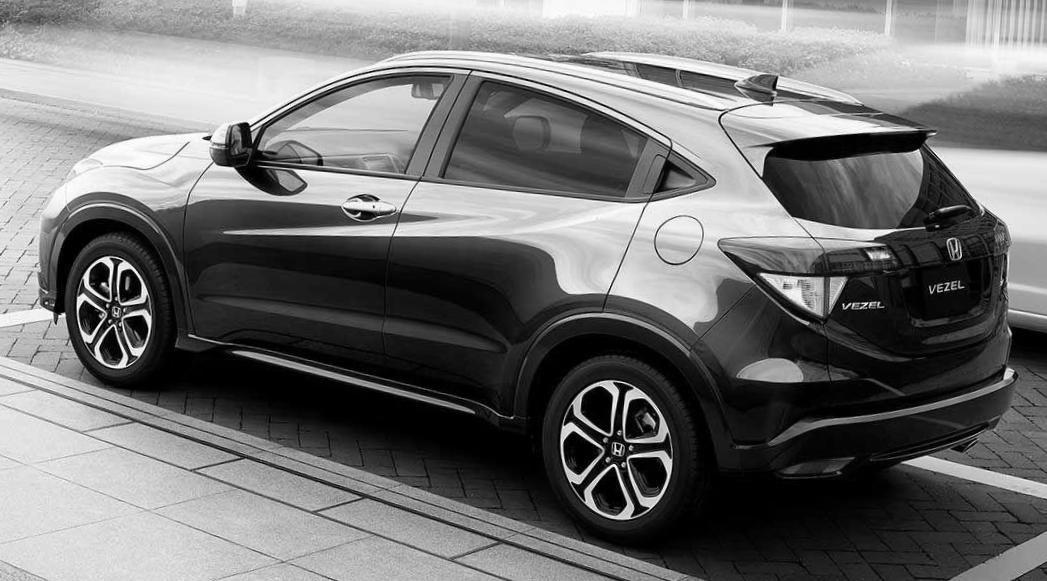Car boot: (756, 119, 1013, 391)
Car hood: (92, 128, 198, 167)
Fender - -F-L-: (64, 136, 216, 347)
Fender - -R-L-: (596, 87, 821, 358)
Front bumper: (31, 179, 75, 318)
Headlight - -L-: (48, 159, 96, 186)
Passenger-s door - -F-L-: (170, 45, 470, 397)
Passenger-s door - -R-L-: (369, 46, 681, 427)
Rear bumper: (684, 291, 1021, 493)
Rear light - -L-: (722, 236, 896, 322)
Rear light - -R-: (989, 215, 1013, 265)
Side bumper - -L-: (176, 315, 525, 461)
Side mirror - -L-: (210, 118, 256, 171)
